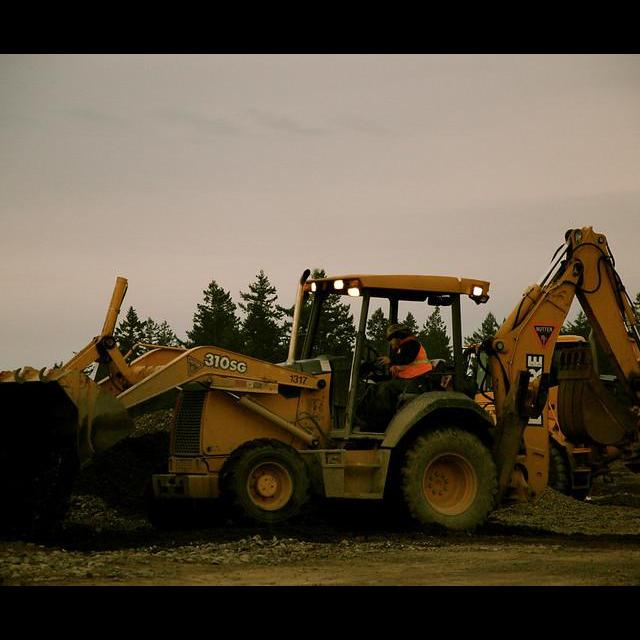Excavator: (0, 227, 640, 539), (471, 329, 640, 496)
Hardhat: (384, 322, 408, 336)
NO-Mask: (389, 339, 402, 350)
Person: (361, 321, 433, 433)
Safety Vest: (388, 336, 432, 378)
